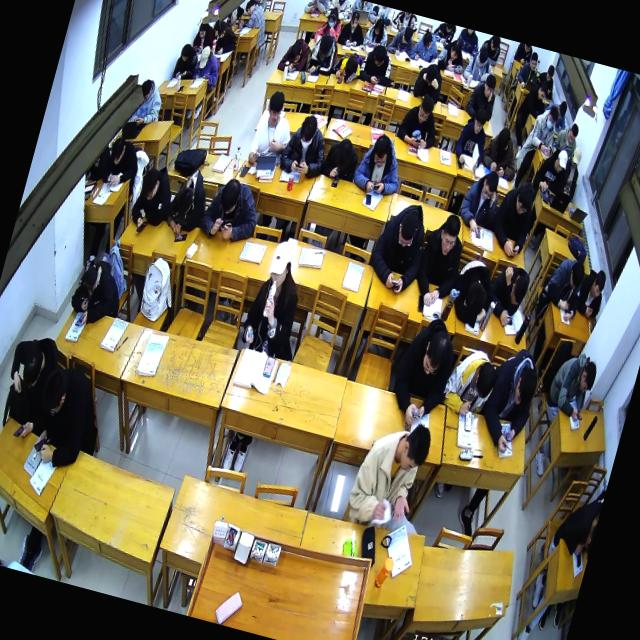bow: (62, 253, 129, 336), (444, 251, 504, 330), (124, 157, 180, 240), (158, 162, 215, 242), (480, 256, 534, 331), (536, 250, 590, 324), (318, 130, 364, 188), (304, 30, 342, 80), (411, 56, 448, 102), (434, 31, 471, 74), (276, 34, 312, 76), (330, 48, 366, 86), (302, 0, 331, 18)
down: (394, 418, 434, 478), (36, 364, 74, 422), (418, 327, 452, 379), (508, 362, 541, 412), (15, 346, 48, 394), (469, 357, 500, 403), (392, 208, 422, 251), (215, 176, 244, 218), (263, 86, 289, 128), (136, 166, 163, 206), (511, 178, 538, 217), (294, 110, 320, 150), (74, 264, 100, 302), (368, 130, 393, 169), (172, 181, 197, 220), (331, 136, 356, 174), (476, 168, 501, 203), (575, 358, 598, 396), (564, 258, 588, 294), (506, 274, 530, 309), (414, 93, 436, 127), (588, 266, 609, 301), (106, 136, 128, 168), (494, 125, 514, 157), (315, 31, 335, 62), (552, 146, 571, 177), (136, 75, 155, 105), (286, 38, 304, 66), (446, 36, 464, 64), (480, 72, 498, 100), (341, 54, 360, 80), (423, 60, 441, 86), (196, 41, 212, 70), (370, 46, 388, 70), (568, 145, 584, 172), (399, 22, 416, 46), (565, 122, 581, 146), (534, 80, 550, 104), (324, 6, 340, 27), (421, 28, 436, 50), (215, 18, 229, 40), (348, 7, 362, 29), (372, 14, 386, 36), (476, 45, 490, 67), (196, 18, 209, 41), (178, 41, 192, 62), (544, 62, 556, 82), (251, 0, 266, 5)
lookup: (434, 210, 464, 259), (470, 105, 490, 136), (543, 104, 561, 132), (526, 50, 540, 71)
sit: (339, 408, 436, 546), (22, 357, 112, 477), (380, 308, 464, 435), (474, 342, 546, 458), (0, 328, 66, 445), (362, 194, 436, 298), (241, 260, 313, 362), (408, 205, 472, 312), (436, 340, 504, 424), (197, 169, 266, 250), (244, 85, 301, 173), (542, 342, 602, 424), (483, 174, 540, 260), (349, 128, 410, 200), (276, 110, 336, 183), (454, 162, 507, 240), (550, 492, 602, 560), (394, 86, 446, 150), (450, 103, 496, 174), (477, 122, 527, 181), (100, 134, 144, 192), (529, 142, 571, 198), (462, 68, 502, 124), (572, 265, 610, 322), (355, 40, 398, 90), (128, 76, 166, 130), (526, 100, 564, 154), (188, 40, 225, 90), (556, 144, 586, 202), (461, 42, 498, 88), (515, 75, 551, 122), (408, 24, 444, 67), (313, 4, 347, 49), (170, 40, 202, 86), (550, 117, 583, 160), (336, 8, 370, 49), (384, 18, 417, 59), (210, 17, 242, 57), (360, 13, 392, 53), (514, 48, 542, 90), (190, 16, 218, 56), (239, 0, 271, 33), (534, 60, 560, 97)
